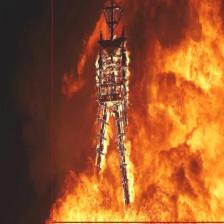fire: (51, 0, 224, 223)
